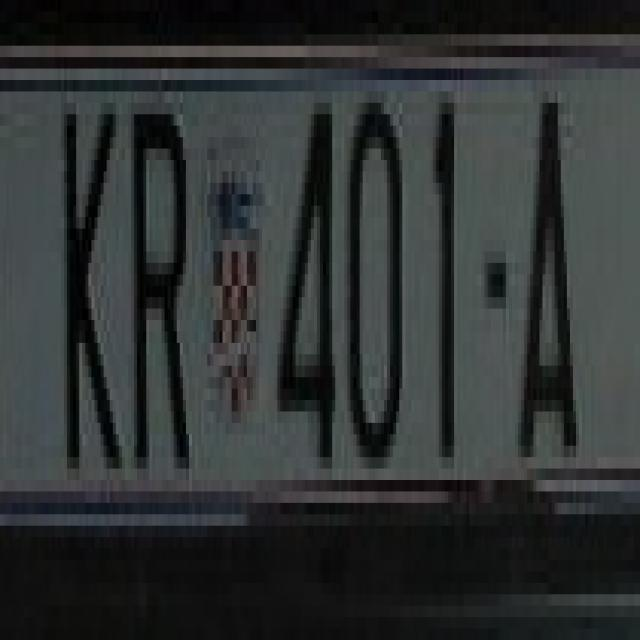0: (342, 91, 408, 480)
1: (424, 80, 469, 469)
4: (271, 80, 335, 469)
A: (515, 80, 588, 469)
K: (64, 80, 122, 480)
